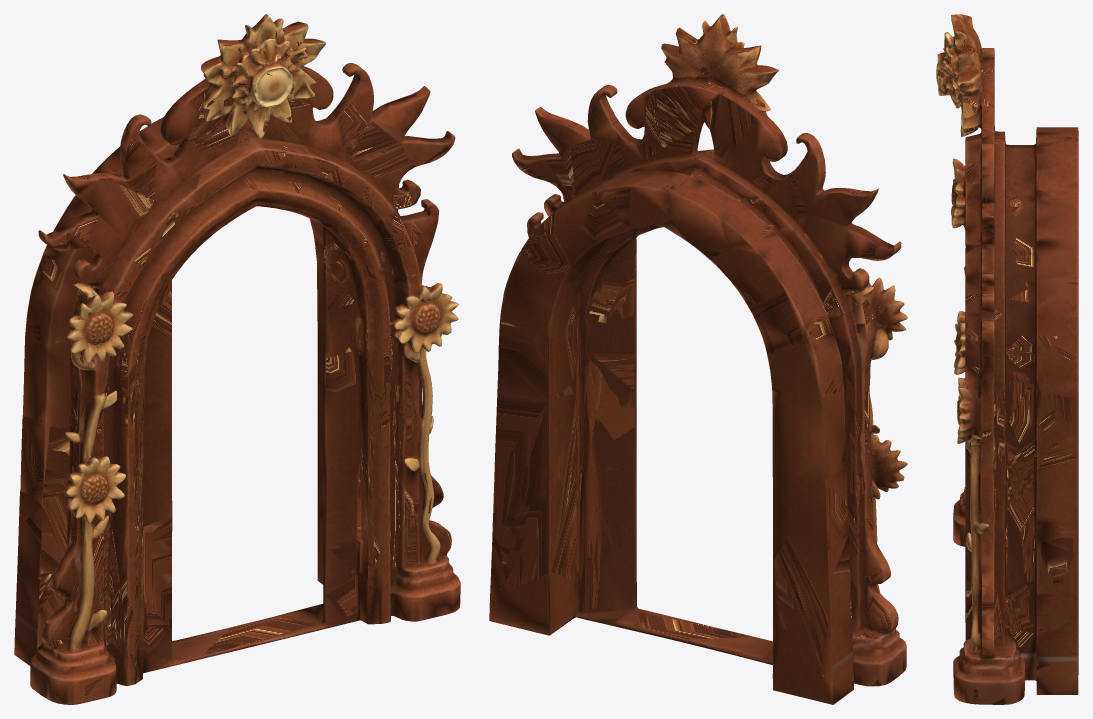
Rendered from pipsSungate.8b44ee22.glb.
3 views of the same model, side by side, from view 1: azimuth 30°, elevation 25°; view 2: azimuth 150°, elevation 25°; view 3: azimuth 270°, elevation 25° (orthographic). The views are drawn at different scales.
Size of the model in its own units: 1.27 by 1.9 by 0.409.
Materials: 1 (1 with a texture image).
